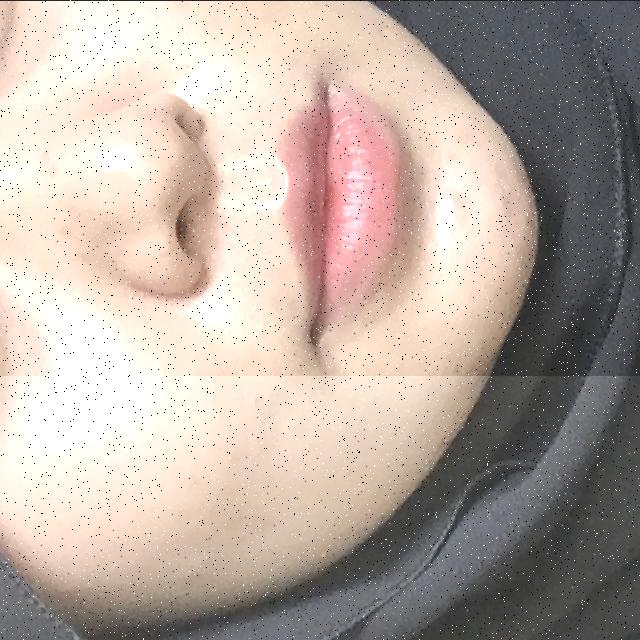mendengar: (0, 375, 640, 640)
